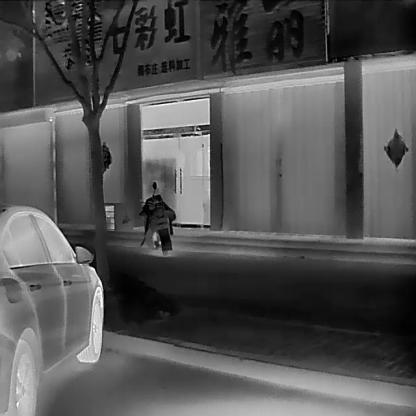car: (1, 203, 104, 416)
